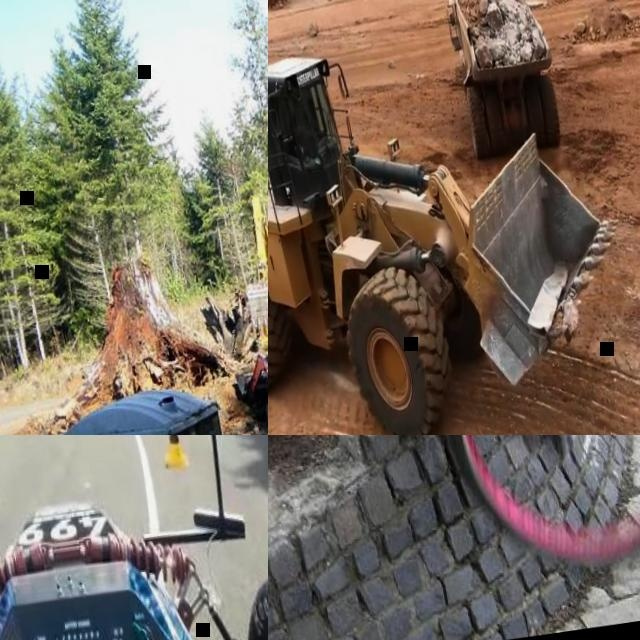Safety Cone: (155, 435, 188, 469)
machinery: (268, 10, 631, 435), (440, 0, 574, 170), (215, 187, 268, 361), (226, 297, 268, 435)
vehicle: (0, 435, 268, 640)
